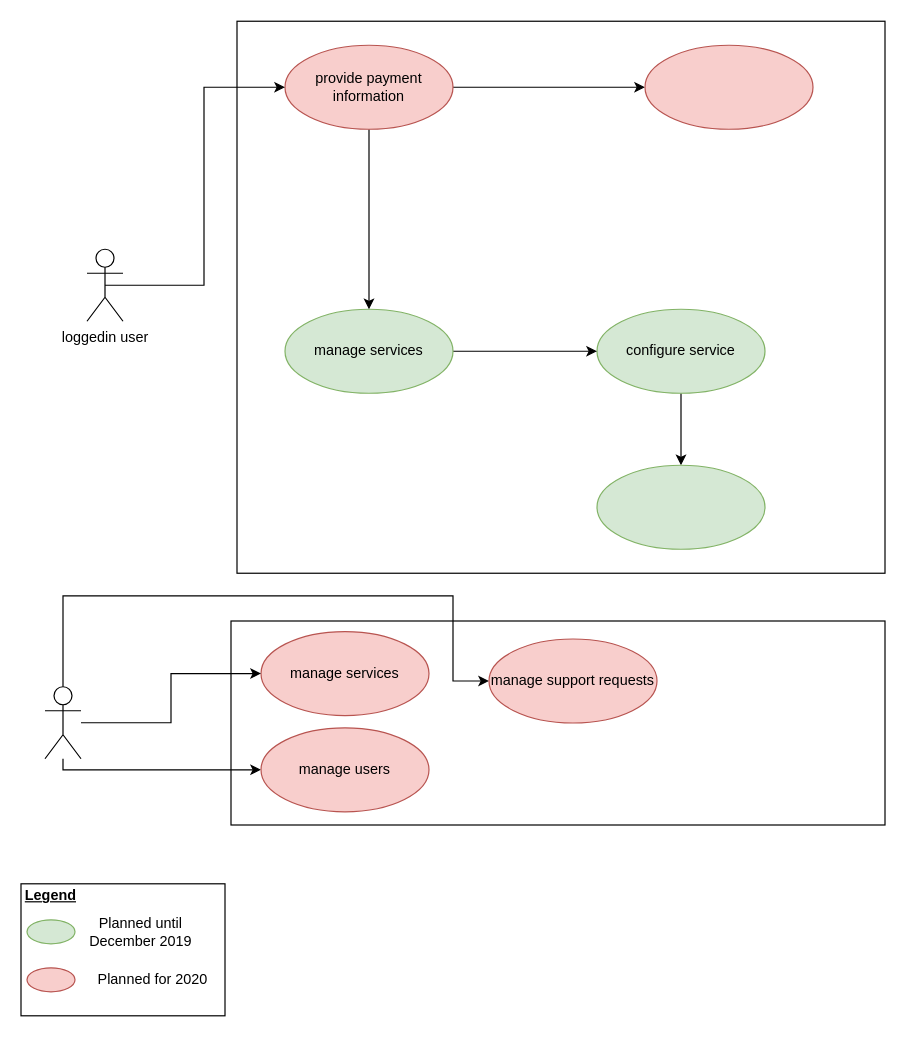
Image size: 906x1037. Some labels were removed from this diagram. Each missing label, with the box of its shape:
Admin: (44, 686, 81, 759)
request support: (644, 44, 813, 129)
start/stop service: (596, 464, 765, 549)
